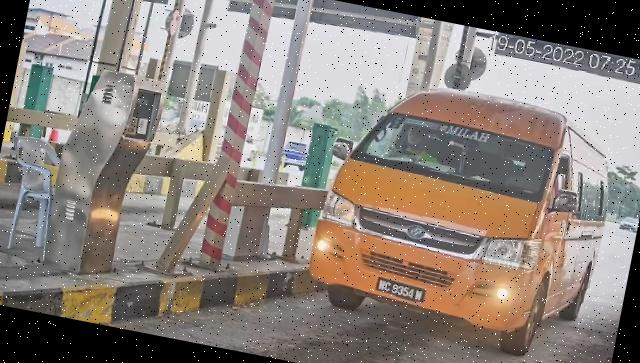License_Plate: (374, 274, 429, 306)
van: (301, 69, 626, 363)
